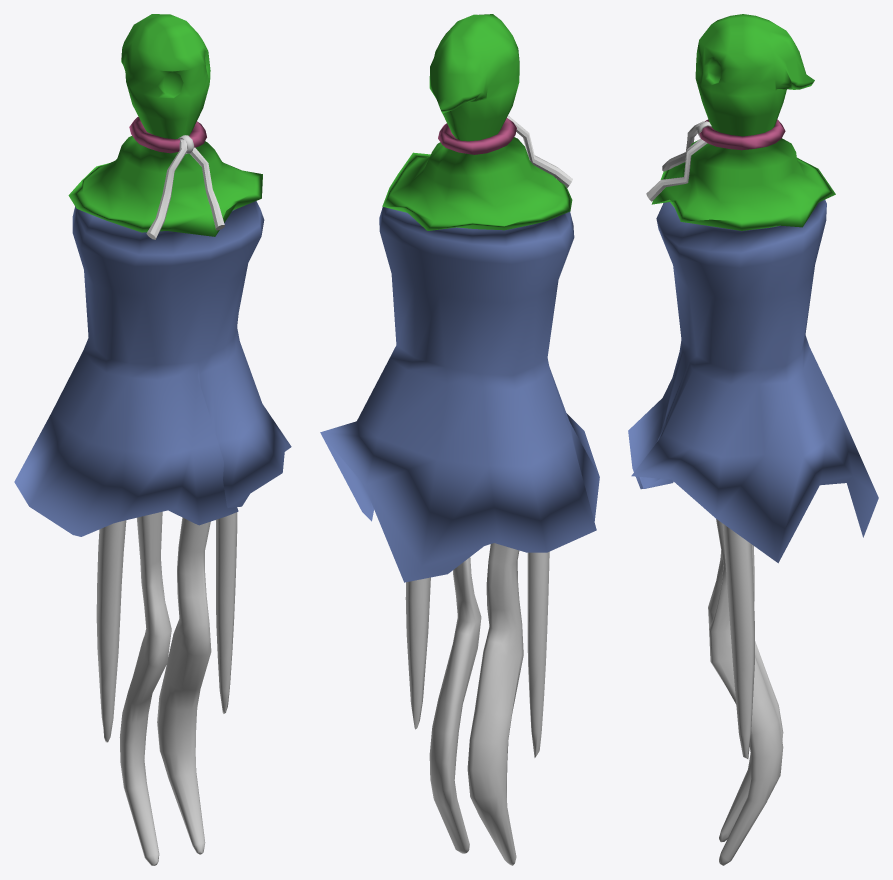
The model's file is bagman_4.fbx.
3 views of the same model, side by side, from view 1: azimuth 30°, elevation 25°; view 2: azimuth 150°, elevation 25°; view 3: azimuth 270°, elevation 25° (orthographic).
Parts seen in each view (by area): view 1: Bagman, leg_R, leg_L, arm_L, arm_R, noose; view 2: Bagman, leg_L, leg_R, arm_L, arm_R, noose; view 3: Bagman, leg_R, arm_R, leg_L, noose.
Boxes of the visible parts, box(x1,y1,x2,y2) form: Bagman: box(14, 14, 291, 536); leg_R: box(157, 517, 211, 854); leg_L: box(119, 511, 171, 865); arm_L: box(96, 520, 126, 742); arm_R: box(215, 512, 237, 713); noose: box(146, 135, 224, 239); Bagman: box(320, 14, 599, 582); leg_L: box(467, 543, 523, 865); leg_R: box(429, 557, 481, 853); arm_L: box(527, 551, 549, 757); arm_R: box(405, 577, 430, 729); noose: box(507, 115, 572, 187); Bagman: box(628, 14, 878, 563); leg_R: box(709, 519, 783, 865); arm_R: box(722, 524, 754, 758); leg_L: box(708, 550, 783, 842); noose: box(646, 121, 711, 201).
Size of the model in its own units: 101 by 330 by 89.6.
